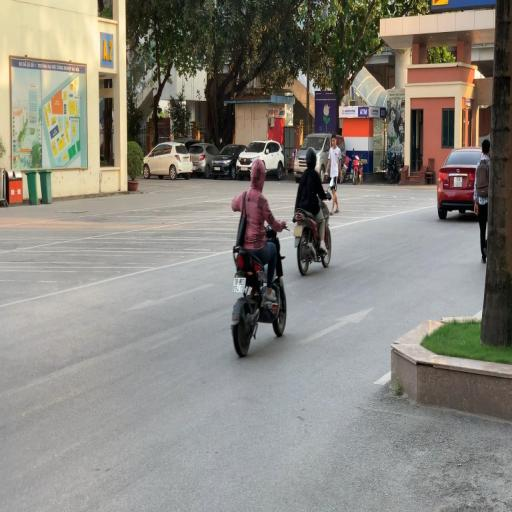bike: (226, 151, 292, 359), (290, 142, 336, 275)
numberplate: (231, 276, 246, 294), (292, 225, 304, 237)
with helmet: (250, 156, 268, 180), (306, 144, 316, 166)
